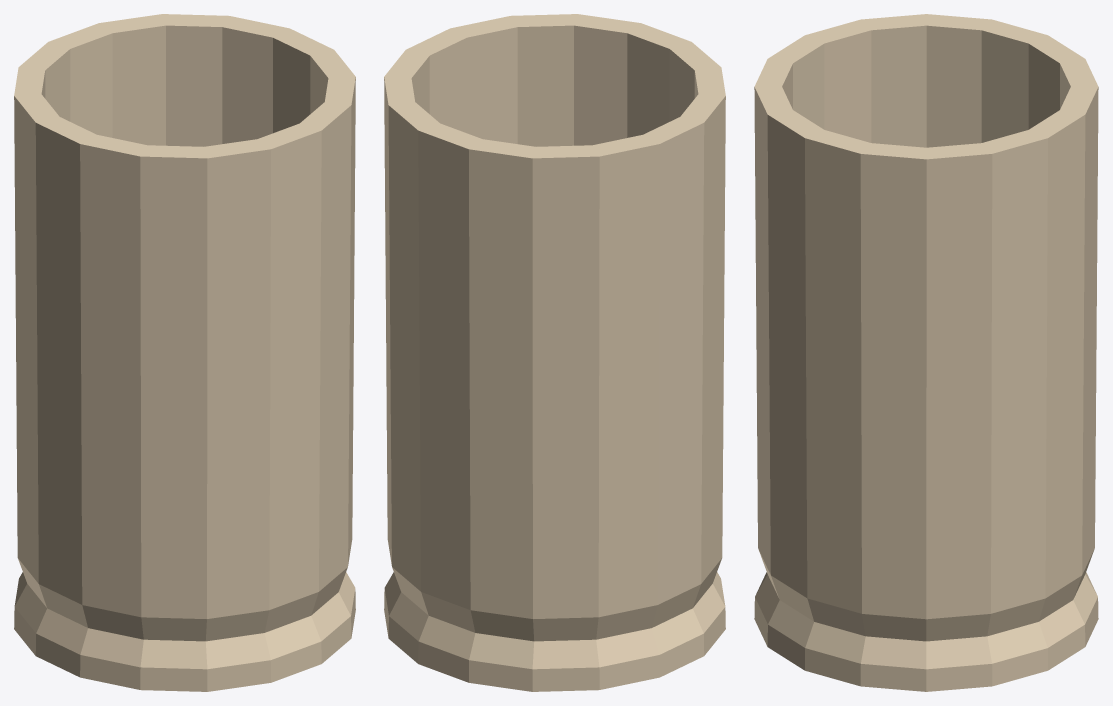
The model's file is 45 ACP Shell.fbx.
3 renders of one model, left to right at view 1: azimuth 30°, elevation 25°; view 2: azimuth 150°, elevation 25°; view 3: azimuth 270°, elevation 25°, orthographic.
Visible parts, largest first — view 1: Cylinder.005; view 2: Cylinder.005; view 3: Cylinder.005.
Boxes of the visible parts, left/top/right/bottom form: Cylinder.005: left=14, top=14, right=355, bottom=691; Cylinder.005: left=384, top=14, right=725, bottom=691; Cylinder.005: left=754, top=14, right=1098, bottom=691.
Size of the model in its own units: 1.29 by 2.21 by 1.29.
